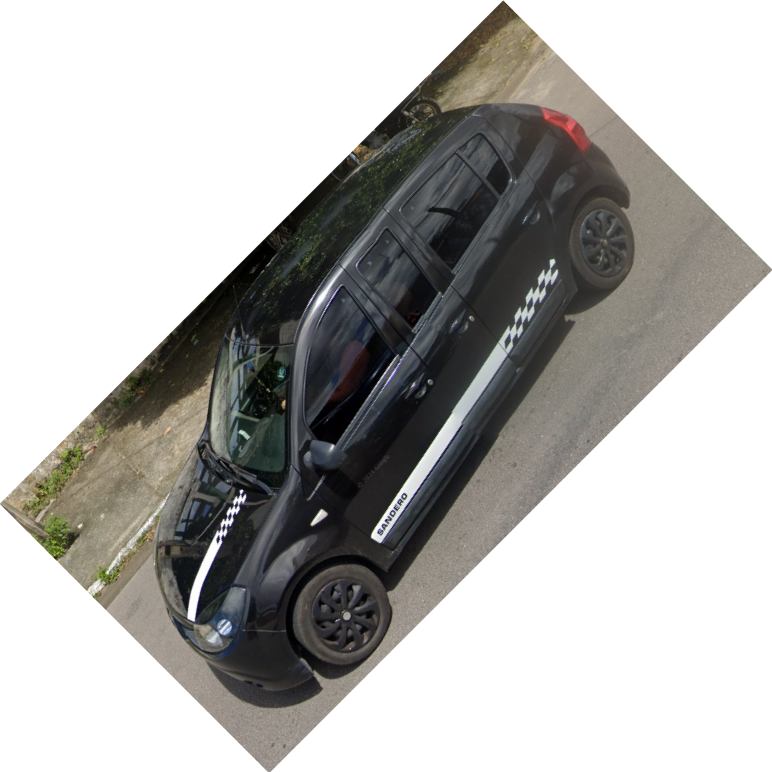car: (153, 101, 637, 691)
